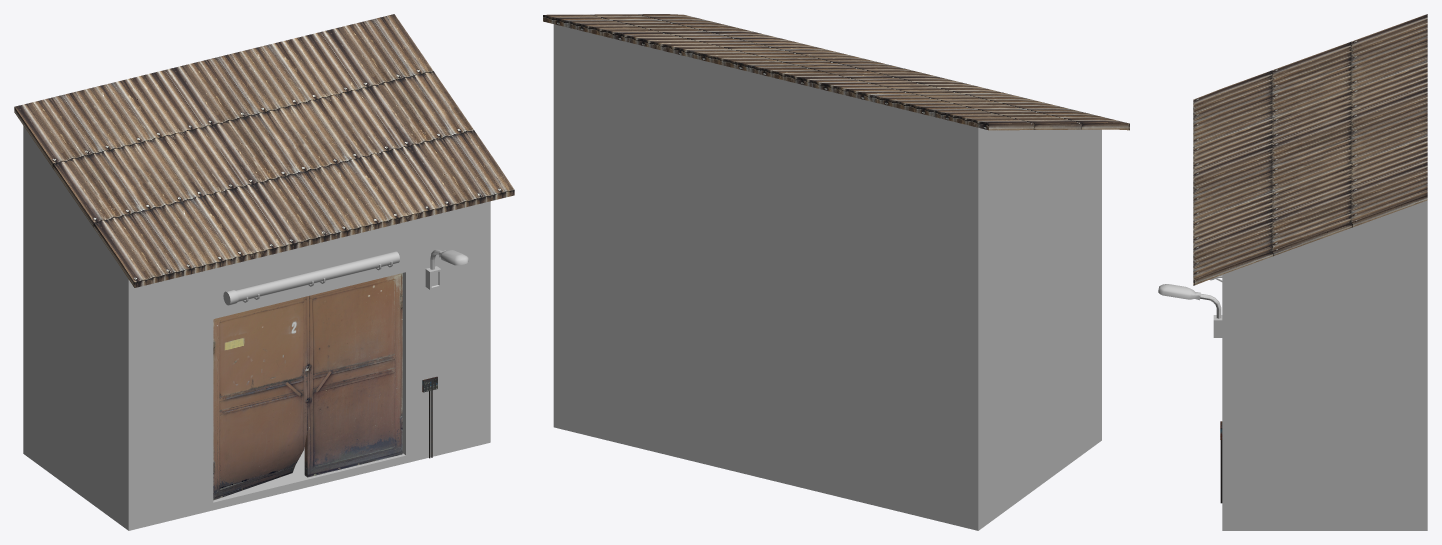
File: house_entrance03_lod0.fbx
3 renders of one model, left to right at view 1: azimuth 30°, elevation 25°; view 2: azimuth 150°, elevation 25°; view 3: azimuth 270°, elevation 25°, orthographic. The views are drawn at different scales.
Parts seen in each view (by area): view 1: Mesh Object; view 2: Mesh Object; view 3: Mesh Object.
Boxes of the visible parts, box(x1,y1,x2,y2) form: Mesh Object: box(14, 14, 514, 530); Mesh Object: box(543, 14, 1129, 530); Mesh Object: box(1158, 14, 1427, 530).
Size of the model in its own units: 6.77 by 5.95 by 4.26.
